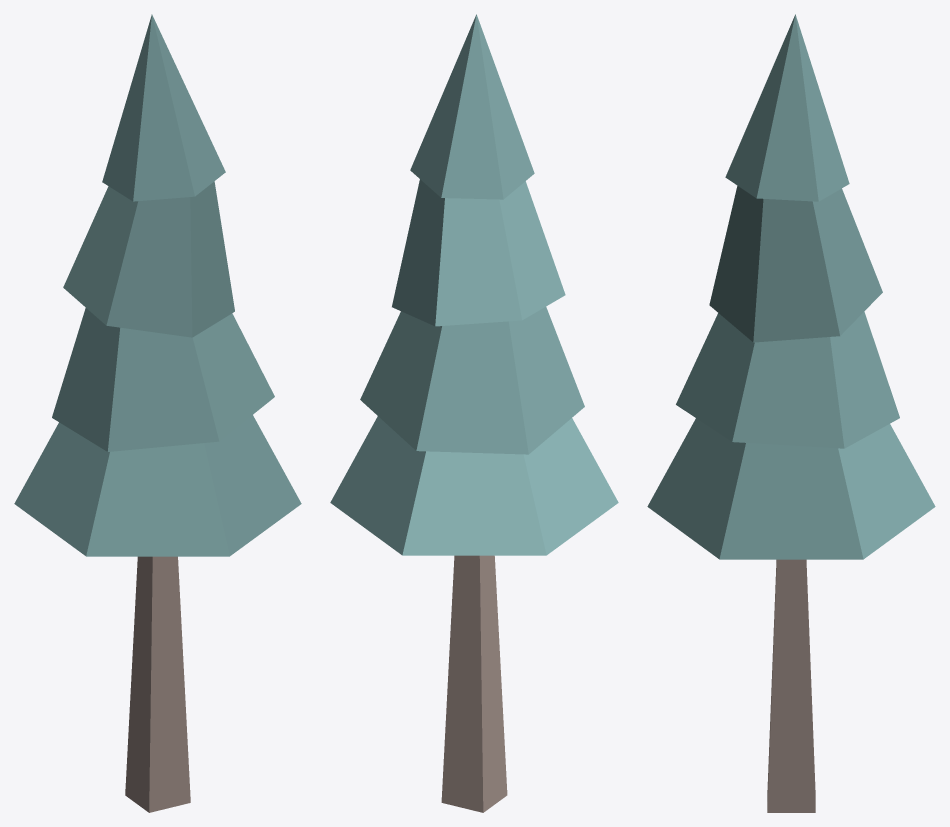
The model's file is nat_tree_pineTallC.glb.
3 renders of one model, left to right at view 1: azimuth 30°, elevation 25°; view 2: azimuth 150°, elevation 25°; view 3: azimuth 270°, elevation 25°, orthographic.
Visible parts, largest first — view 1: geometry_0; view 2: geometry_0; view 3: geometry_0.
Part boxes in pixels (x1,y1,x2,y2): geometry_0: (14,14,301,812); geometry_0: (330,14,618,812); geometry_0: (647,14,935,812).
Size of the model in its own units: 0.2876 by 1 by 0.3321.
